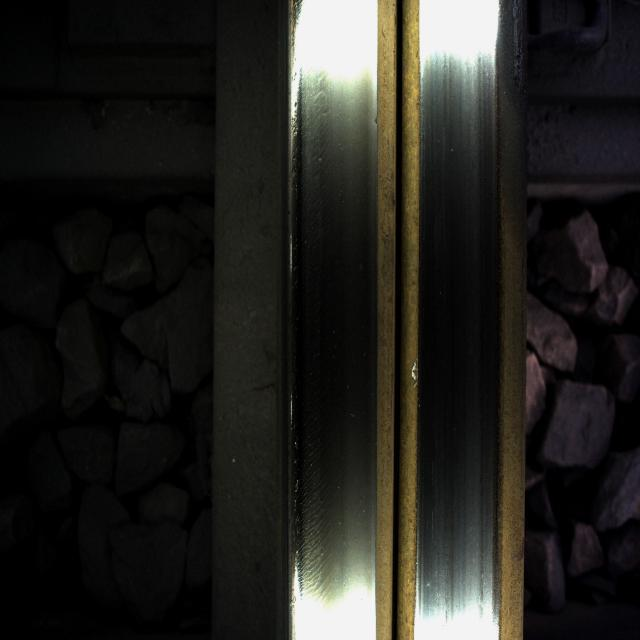break: (427, 64, 495, 538)
normal: (292, 56, 372, 559)
